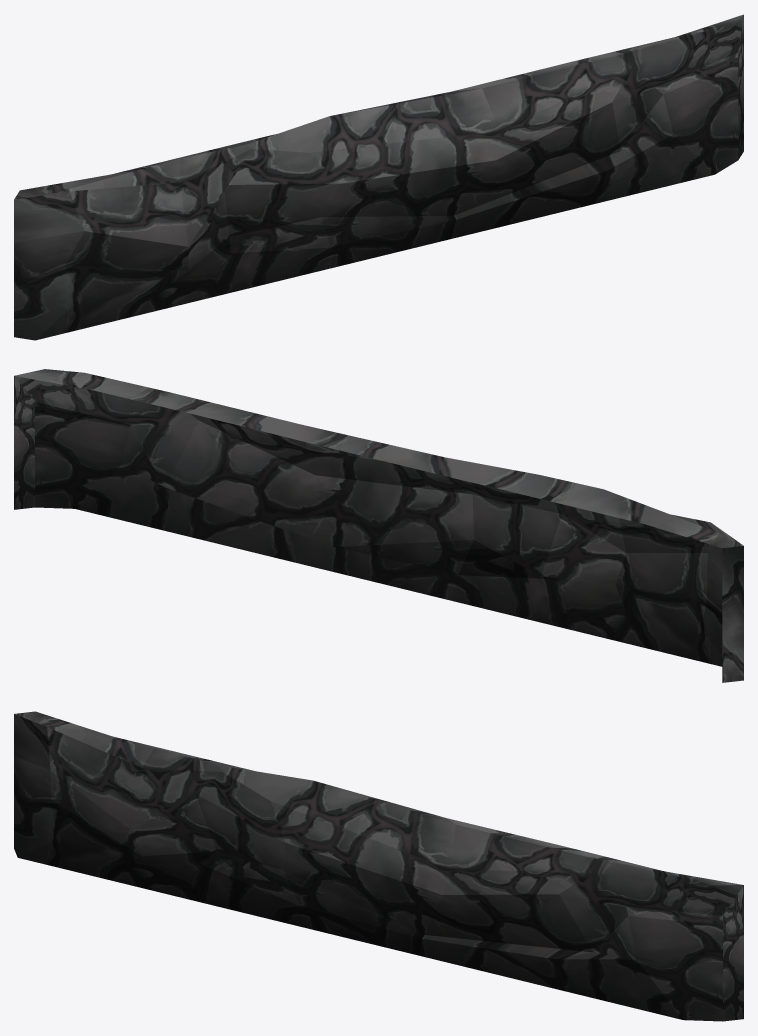
Rendered from fanasty_mod_edge_stone_wall02.fbx.
3 renders of one model, top to bottom at view 1: azimuth 30°, elevation 25°; view 2: azimuth 150°, elevation 25°; view 3: azimuth 330°, elevation 25°, orthographic. The views are drawn at different scales.
Parts seen in each view (by area): view 1: edge_stone_wall_02; view 2: edge_stone_wall_02; view 3: edge_stone_wall_02.
Part boxes in pixels (<box>): edge_stone_wall_02: <box>14,14,743,340</box>; edge_stone_wall_02: <box>14,369,743,682</box>; edge_stone_wall_02: <box>14,711,743,1021</box>.
Bounding box in the file's own units: 11.53 × 2.23 × 0.9559.
